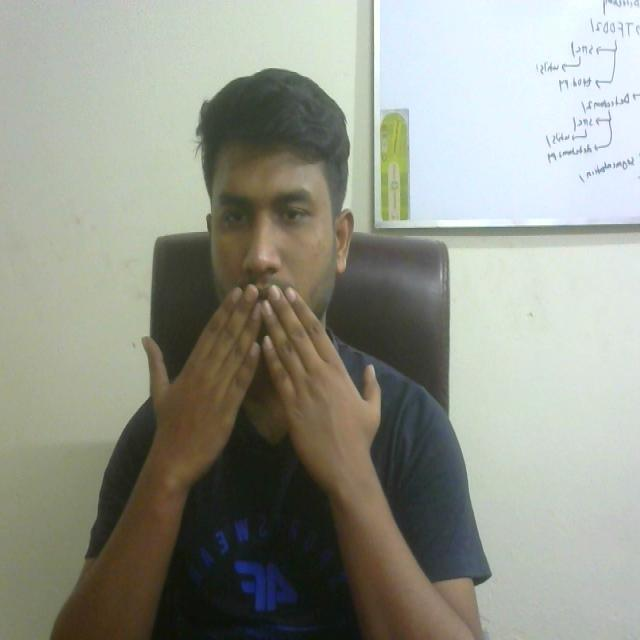Hello: (118, 280, 390, 493)
